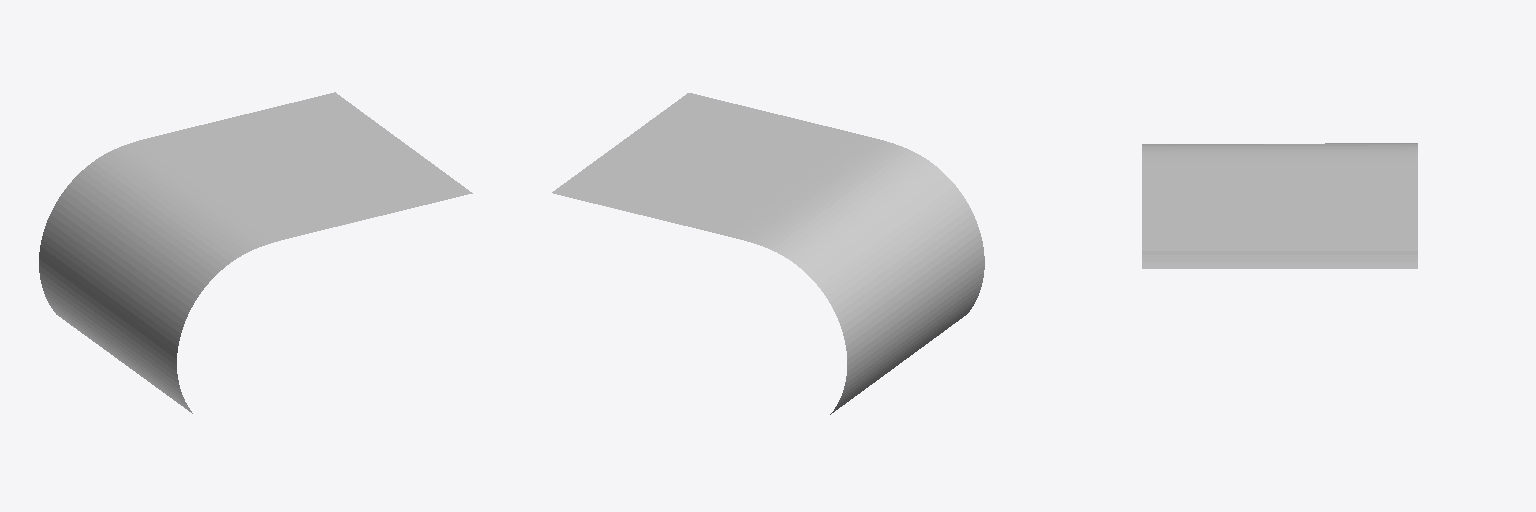
Rendered from CurvePaper_000049.obj.
3 views of the same model, side by side, from view 1: azimuth 30°, elevation 25°; view 2: azimuth 150°, elevation 25°; view 3: azimuth 270°, elevation 25° (orthographic).
Parts seen in each view (by area): view 1: Plane; view 2: Plane; view 3: Plane.
Boxes of the visible parts, <box> form: Plane: <box>39,92,472,413</box>; Plane: <box>552,93,984,414</box>; Plane: <box>1142,143,1417,268</box>.
Size of the model in its own units: 2.81 by 1.4 by 2.26.